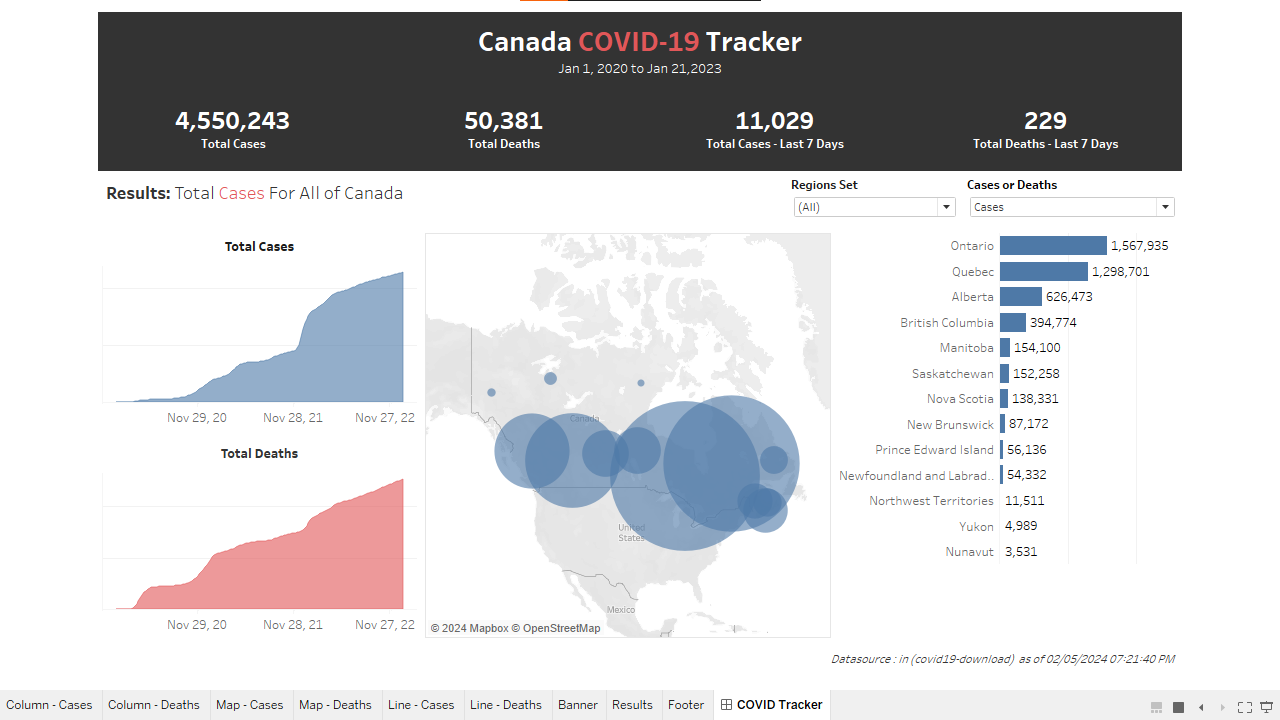

Layout of this report page (visuals, bound fields, positions):
{"tool":"tableau","page":{"name":"COVID Tracker","canvas":[1000,1000],"units":"permille","ordinal":0},"visuals":[{"type":"text","box":[7.3,12.9,985.5,114.5]},{"type":"worksheet","title":"Banner","mark":"Automatic","box":[7.3,127.4,985.5,122]},{"type":"worksheet","title":"Results","mark":"Automatic","box":[7.3,249.4,626.4,83]},{"type":"filter","title":"Banner","param":"[federated.0efci4l1bqf7ol1du59ot0a3qgvz].[Regions Set]","box":[633.6,249.4,160,83]},{"type":"parameter","param":"[Parameters].[Parameter 1]","box":[793.6,249.4,199.1,83]},{"type":"worksheet","title":"Line - Cases","mark":"Area","rows":["totalcases"],"cols":["date"],"box":[7.3,332.3,300,299.1]},{"type":"worksheet","title":"Map - Cases","mark":"Automatic","box":[307.3,332.3,368.3,596.7]},{"type":"worksheet","title":"Column - Cases","mark":"Automatic","rows":["prname"],"cols":["totalcases"],"box":[675.6,332.3,317.1,546.8]},{"type":"worksheet","title":"Line - Deaths","mark":"Area","rows":["numdeaths"],"cols":["date"],"box":[7.3,631.5,300,299.2]},{"type":"worksheet","title":"Column - Deaths","mark":"Automatic","rows":["prname"],"cols":["numdeaths"],"box":[675.6,879.1,317.1,14.5]},{"type":"worksheet","title":"Map - Deaths","mark":"Automatic","box":[307.3,929,368.3,1.6]},{"type":"worksheet","title":"Footer","mark":"Automatic","box":[7.3,930.6,985.5,56.5]}]}

Visuals, with their boxes on the dashboard's canvas, which has no fixed pixel size, in thousandths of its width and height (x1, y1, x2, y2). These are canvas units, not pixel positions in the 1280x720 screenshot, which may show the page scaled, cropped or inside an application window:
text: [7,13,993,127]
"Banner" worksheet: [7,127,993,249]
"Results" worksheet: [7,249,634,332]
"Banner" filter: [634,249,794,332]
parameter: [794,249,993,332]
"Line - Cases" worksheet (Area marks): [7,332,307,631]
"Map - Cases" worksheet: [307,332,676,929]
"Column - Cases" worksheet: [676,332,993,879]
"Line - Deaths" worksheet (Area marks): [7,632,307,931]
"Column - Deaths" worksheet: [676,879,993,894]
"Map - Deaths" worksheet: [307,929,676,931]
"Footer" worksheet: [7,931,993,987]
